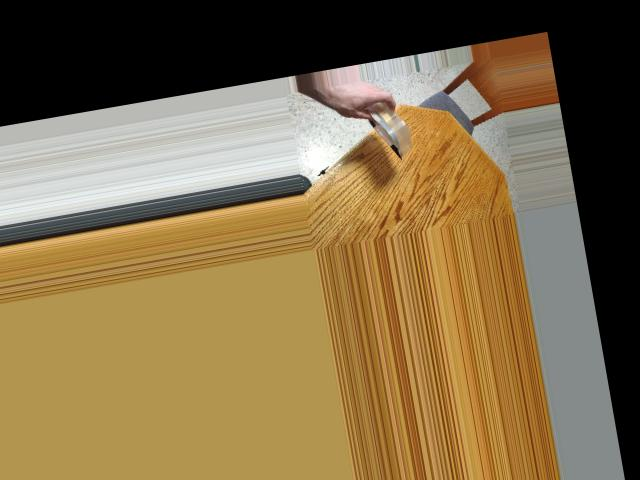cheese: (365, 94, 414, 161)
